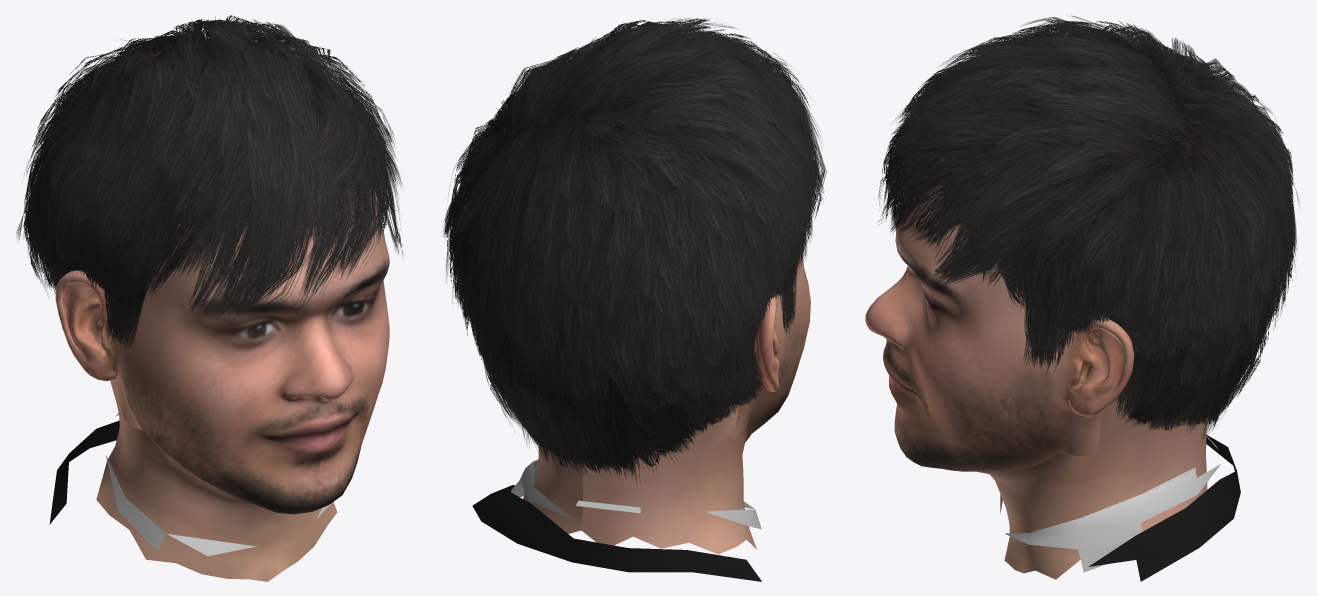
The model's file is yoga.glb.
3 renders of one model, left to right at view 1: azimuth 30°, elevation 25°; view 2: azimuth 150°, elevation 25°; view 3: azimuth 270°, elevation 25°, orthographic.
Parts seen in each view (by area): view 1: avaturn_hair_0, avaturn_body, avaturn_hair_1, avaturn_look_0; view 2: avaturn_hair_0, avaturn_hair_1, avaturn_body, avaturn_look_0; view 3: avaturn_hair_0, avaturn_hair_1, avaturn_body, avaturn_look_0.
Boxes of the visible parts, x1=… form: avaturn_hair_0: x1=23, y1=15, x2=401, y2=341; avaturn_body: x1=55, y1=41, x2=389, y2=581; avaturn_hair_1: x1=16, y1=17, x2=402, y2=350; avaturn_look_0: x1=49, y1=413, x2=330, y2=556; avaturn_hair_0: x1=444, y1=18, x2=824, y2=475; avaturn_hair_1: x1=443, y1=17, x2=826, y2=484; avaturn_body: x1=491, y1=79, x2=810, y2=554; avaturn_look_0: x1=472, y1=459, x2=761, y2=581; avaturn_hair_0: x1=883, y1=20, x2=1295, y2=430; avaturn_hair_1: x1=878, y1=15, x2=1300, y2=439; avaturn_body: x1=865, y1=64, x2=1239, y2=579; avaturn_look_0: x1=1000, y1=434, x2=1240, y2=581.
Bounding box in the file's own units: 0.2091 × 0.3312 × 0.2516.
4 materials, 4 textured.
